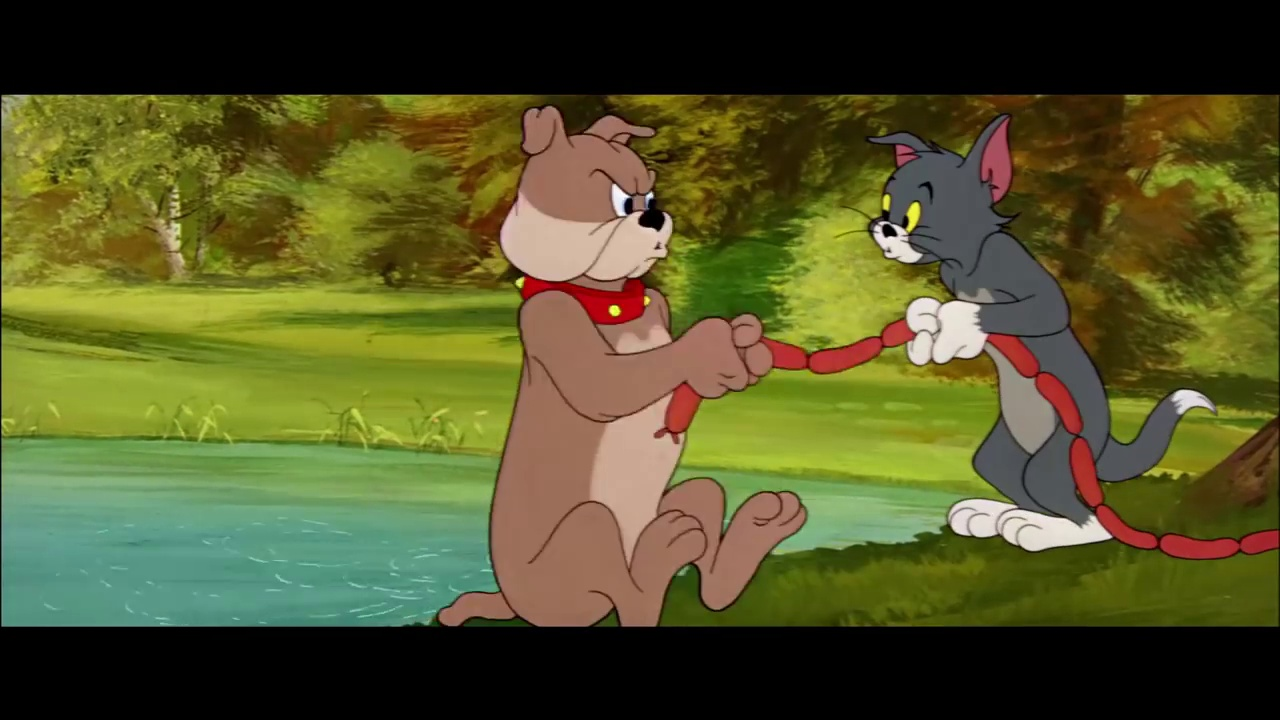spike: (497, 104, 684, 328)
tom: (852, 110, 1021, 287)
